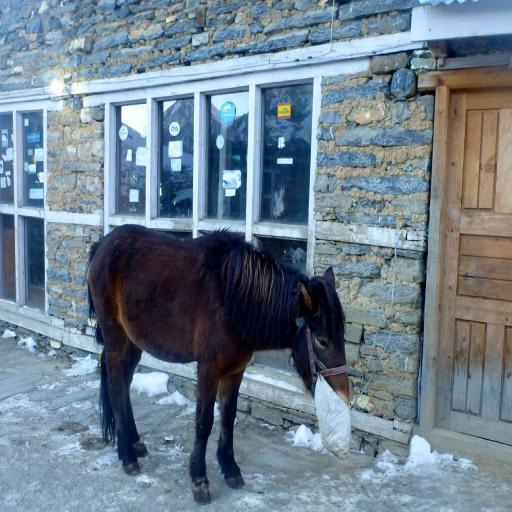Horse: (87, 221, 350, 507)
